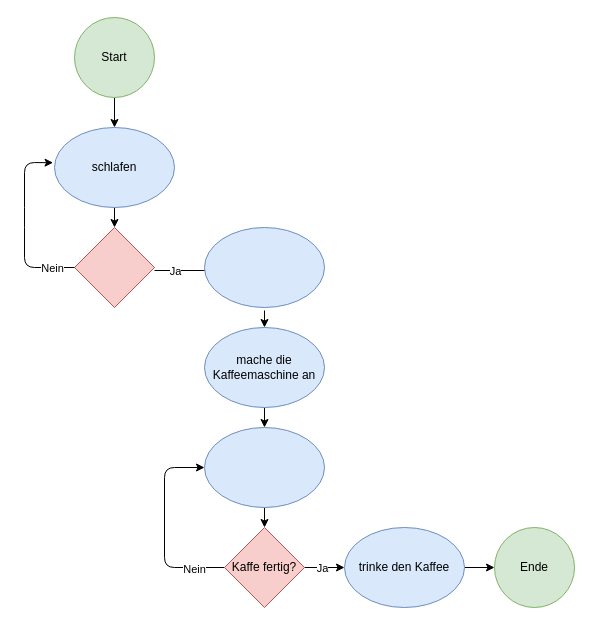
Some shapes in this 592 by 625 pixel diagram are drawn without their labels. Each missing label, with the centre of its shape:
"stehe auf" goes at [264,267].
"warte bis Kaffee fertig ist" goes at [264,467].
"Wecker geklingelt?" goes at [114,267].
